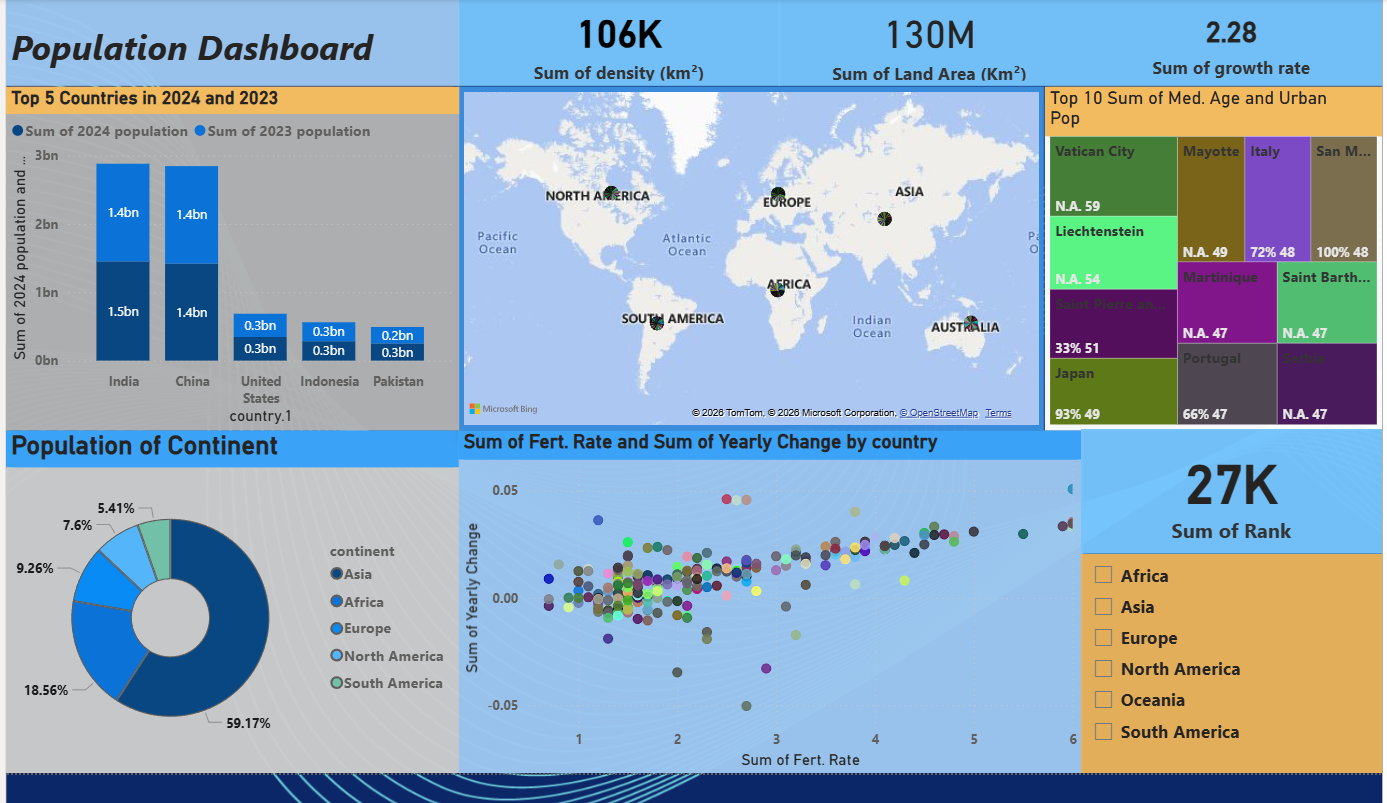

The dashboard page shown, as its layout file describes it:
{"tool":"powerbi","page":{"name":"Page 1","canvas":[1280,720],"ordinal":0},"visuals":[{"type":"donutChart","title":"Population of Continent ","fields":{"Category":["world_population_data.continent"],"Y":["Sum(world_population_data.2024 population)"]},"box":[0,400.7,421.3,319.7],"z":0},{"type":"map","fields":{"Category":["world_population_data.continent"],"Series":["world_population_data.country.1"],"Y":["Avg(world_population_data.Land Area (Km²))"]},"box":[421.3,81,544.8,319.7],"z":1000},{"type":"card","fields":{"Values":["Sum(world_population_data.Land Area (Km²))"]},"box":[719,0,281.3,81],"z":2000},{"type":"card","fields":{"Values":["Sum(world_population_data.growth rate)"]},"box":[1000.3,0,279.9,81],"z":3000},{"type":"scatterChart","title":"       Sum of Fert. Rate and Sum of Yearly Change by country","fields":{"X":["Sum(world_population_data.Fert. Rate)"],"Y":["Sum(world_population_data.Yearly Change)"],"Series":["world_population_data.country.1"]},"box":[421.3,400.7,580.4,319.7],"z":4000},{"type":"treemap","title":"Top 10 Sum of Med. Age and Urban Pop ","fields":{"Group":["world_population_data.country.1"],"Values":["Sum(world_population_data.Med. Age)"],"Details":["world_population_data.Urban Pop %"]},"box":[966,81,314.2,319.7],"z":5000},{"type":"columnChart","title":"Top 5 Countries in 2024 and 2023","fields":{"Category":["world_population_data.country.1"],"Y":["Sum(world_population_data.2024 population)","Sum(world_population_data.2023 population)"]},"box":[0,81,421.3,319.7],"z":6000},{"type":"slicer","fields":{"Values":["world_population_data.continent"]},"box":[1000.3,516,279.9,204.5],"z":7000},{"type":"card","fields":{"Values":["Sum(world_population_data.density (km²))"]},"box":[421.3,0,299.1,81],"z":8000},{"type":"card","fields":{"Values":["Sum(world_population_data.Rank)"]},"box":[1000.3,399.9,280,116.2],"z":9000},{"type":"textbox","box":[0,0,421.9,80.7],"z":10000}]}

Visuals, with their boxes in screenshot pixels (x1, y1, x2, y2), scaled from the page's 1280x720 canvas onto the 1387x803 screenshot:
"Population of Continent " donutChart: [0,447,457,802]
map - world_population_data.continent x world_population_data.country.1: [457,90,1047,447]
card - Sum(world_population_data.Land Area (Km²)): [779,0,1084,90]
card - Sum(world_population_data.growth rate): [1084,0,1386,90]
"       Sum of Fert. Rate and Sum of Yearly Change by country" scatterChart: [457,447,1085,802]
"Top 10 Sum of Med. Age and Urban Pop " treemap: [1047,90,1386,447]
"Top 5 Countries in 2024 and 2023" columnChart: [0,90,457,447]
slicer - world_population_data.continent: [1084,575,1386,802]
card - Sum(world_population_data.density (km²)): [457,0,781,90]
card - Sum(world_population_data.Rank): [1084,446,1386,576]
textbox: [0,0,457,90]
